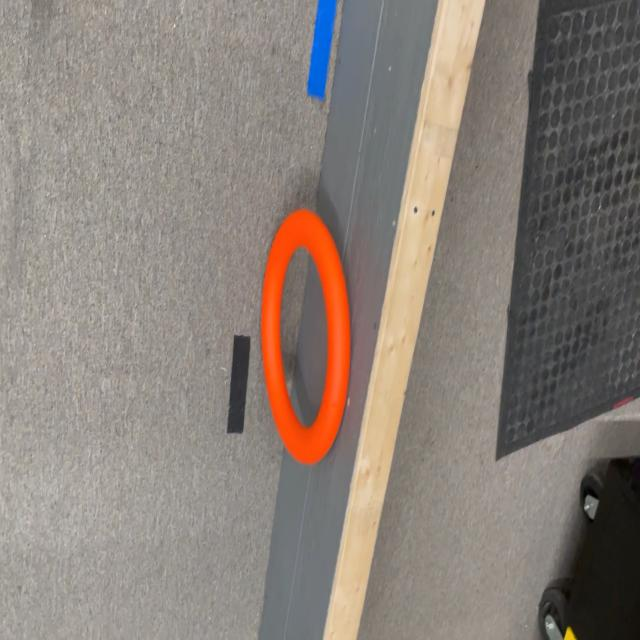note: (260, 208, 352, 461)
